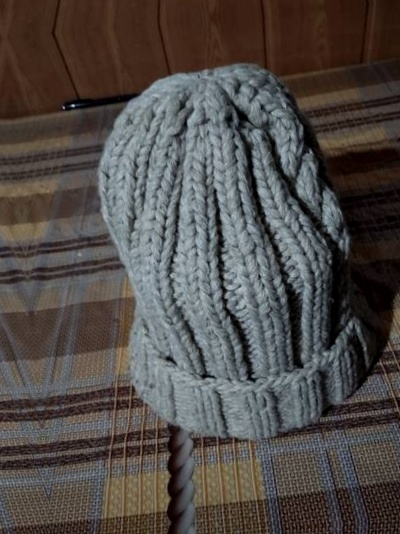Hat: (59, 40, 400, 456)
